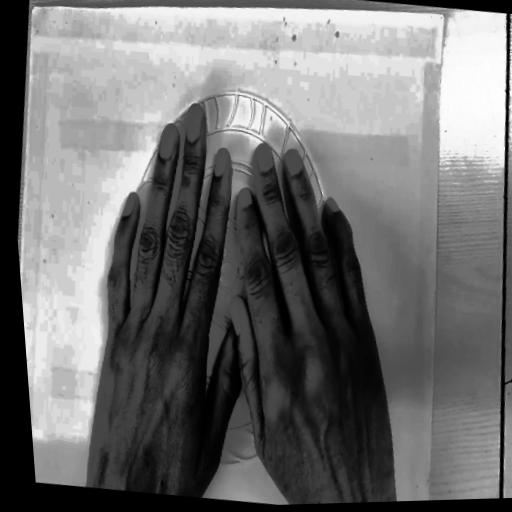tire: (116, 70, 359, 478)
top_left: (29, 3, 38, 17)
top_right: (438, 9, 447, 21)
